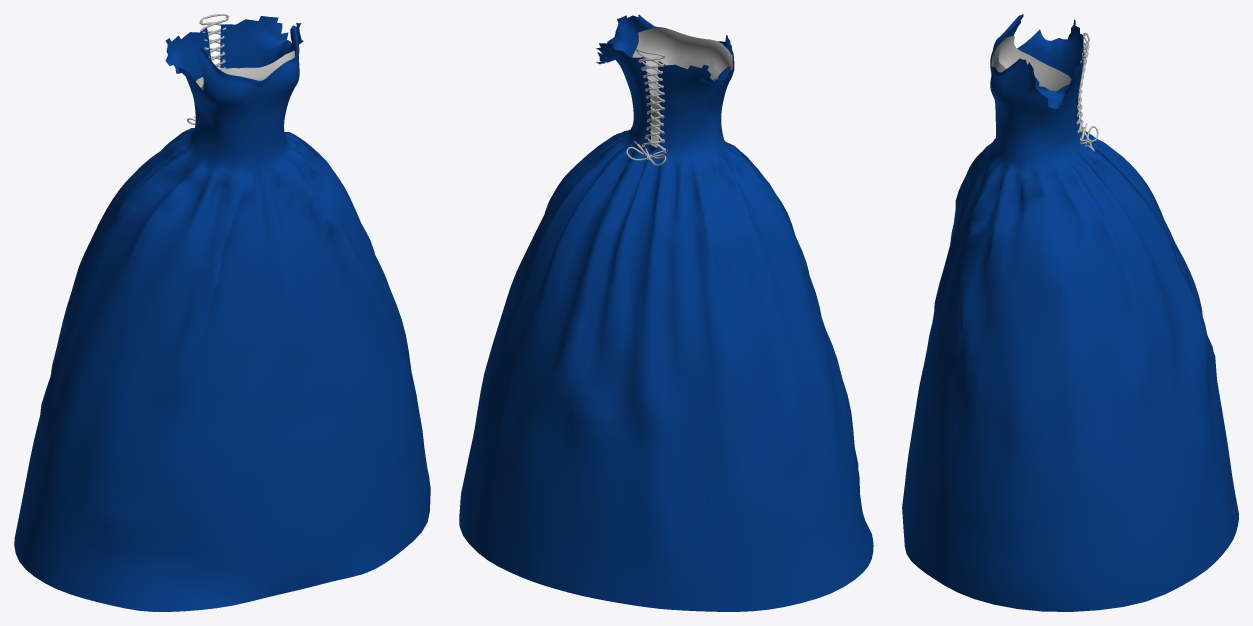
File: female_s.glb
The picture shows the model from 3 angles, left to right: view 1: azimuth 30°, elevation 25°; view 2: azimuth 150°, elevation 25°; view 3: azimuth 270°, elevation 25°; orthographic projection. The views are drawn at different scales.
Visible parts, largest first — view 1: Gown_low, Stom_low, Lace_low; view 2: Gown_low, Stom_low, Lace_low; view 3: Gown_low, Stom_low, Lace_low.
Boxes of the visible parts, x1,y1,x2,y2 form: Gown_low: [14, 16, 430, 611]; Stom_low: [196, 50, 294, 90]; Lace_low: [187, 14, 229, 124]; Gown_low: [459, 14, 873, 611]; Stom_low: [632, 28, 732, 147]; Lace_low: [626, 49, 667, 165]; Gown_low: [902, 14, 1238, 611]; Stom_low: [991, 36, 1071, 91]; Lace_low: [1076, 33, 1098, 151].
Size of the model in its own units: 1.1 by 1.39 by 0.8649.
